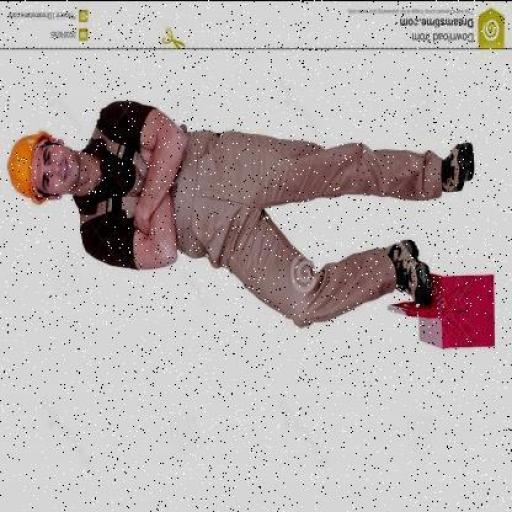person: (5, 99, 474, 327)
safety_shoe: (379, 235, 436, 307), (438, 131, 480, 203)
